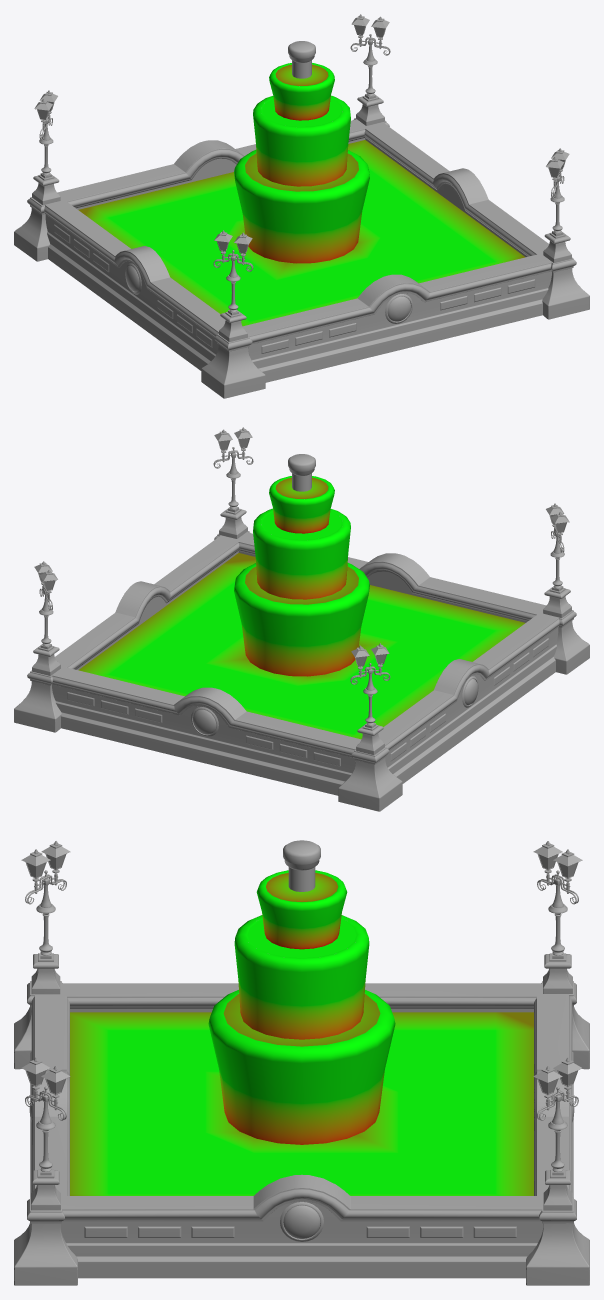
Rendered from cP_WaterFountain01.fbx.
The picture shows the model from 3 angles, top to bottom: view 1: azimuth 30°, elevation 25°; view 2: azimuth 150°, elevation 25°; view 3: azimuth 270°, elevation 25°; orthographic projection. The views are drawn at different scales.
Parts seen in each view (by area): view 1: cP_WaterFountainContainer_Main, waterPool_mesh, fountainRunningWater_mesh1, cP_WaterFountainContainer_Corners, cP_WaterFountainLight_Pole, fountainRunningWater_Calm_mesh, cP_WaterFountain, cP_WaterFountainContainer_Orbs, cP_WaterFountainLight_Glass; view 2: cP_WaterFountainContainer_Main, waterPool_mesh, fountainRunningWater_mesh1, cP_WaterFountainContainer_Corners, cP_WaterFountainLight_Pole, fountainRunningWater_Calm_mesh, cP_WaterFountain, cP_WaterFountainContainer_Orbs, cP_WaterFountainLight_Glass; view 3: waterPool_mesh, cP_WaterFountainContainer_Main, fountainRunningWater_mesh1, cP_WaterFountainContainer_Corners, cP_WaterFountainLight_Pole, fountainRunningWater_Calm_mesh, cP_WaterFountain, cP_WaterFountainLight_Glass, cP_WaterFountainContainer_Orbs.
Part boxes in pixels (x1,y1,x2,y2): cP_WaterFountainContainer_Main: [27, 118, 576, 382]; waterPool_mesh: [78, 140, 525, 326]; fountainRunningWater_mesh1: [234, 63, 369, 263]; cP_WaterFountainContainer_Corners: [14, 93, 589, 398]; cP_WaterFountainLight_Pole: [34, 14, 569, 312]; fountainRunningWater_Calm_mesh: [245, 64, 358, 191]; cP_WaterFountain: [264, 41, 342, 121]; cP_WaterFountainContainer_Orbs: [125, 266, 410, 321]; cP_WaterFountainLight_Glass: [37, 25, 565, 253]; cP_WaterFountainContainer_Main: [27, 531, 576, 795]; waterPool_mesh: [78, 553, 525, 739]; fountainRunningWater_mesh1: [234, 476, 369, 676]; cP_WaterFountainContainer_Corners: [14, 506, 589, 811]; cP_WaterFountainLight_Pole: [34, 427, 569, 725]; fountainRunningWater_Calm_mesh: [245, 477, 358, 604]; cP_WaterFountain: [261, 454, 339, 534]; cP_WaterFountainContainer_Orbs: [193, 679, 478, 734]; cP_WaterFountainLight_Glass: [38, 438, 565, 666]; waterPool_mesh: [70, 1012, 533, 1195]; cP_WaterFountainContainer_Main: [27, 981, 576, 1278]; fountainRunningWater_mesh1: [208, 870, 395, 1144]; cP_WaterFountainContainer_Corners: [14, 951, 589, 1285]; cP_WaterFountainLight_Pole: [21, 841, 582, 1171]; fountainRunningWater_Calm_mesh: [223, 873, 380, 1046]; cP_WaterFountain: [248, 840, 355, 948]; cP_WaterFountainLight_Glass: [26, 854, 577, 1093]; cP_WaterFountainContainer_Orbs: [29, 1098, 574, 1238].
Size of the model in its own units: 760 by 518 by 757.
